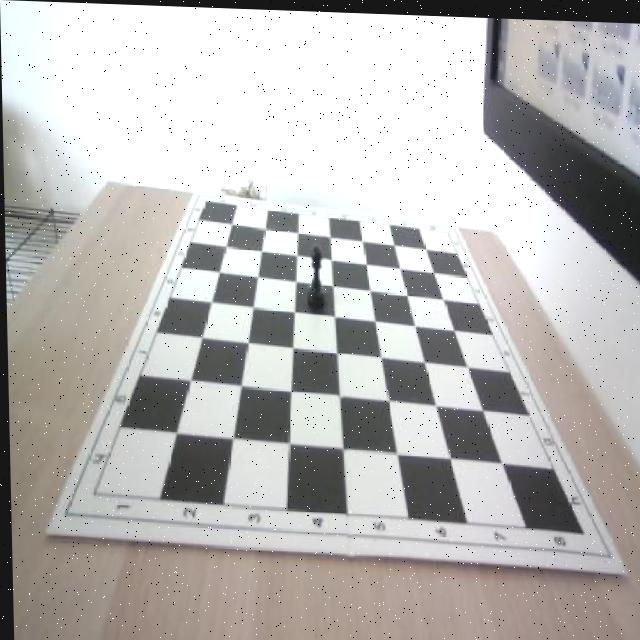black-knight: (303, 243, 325, 310)
